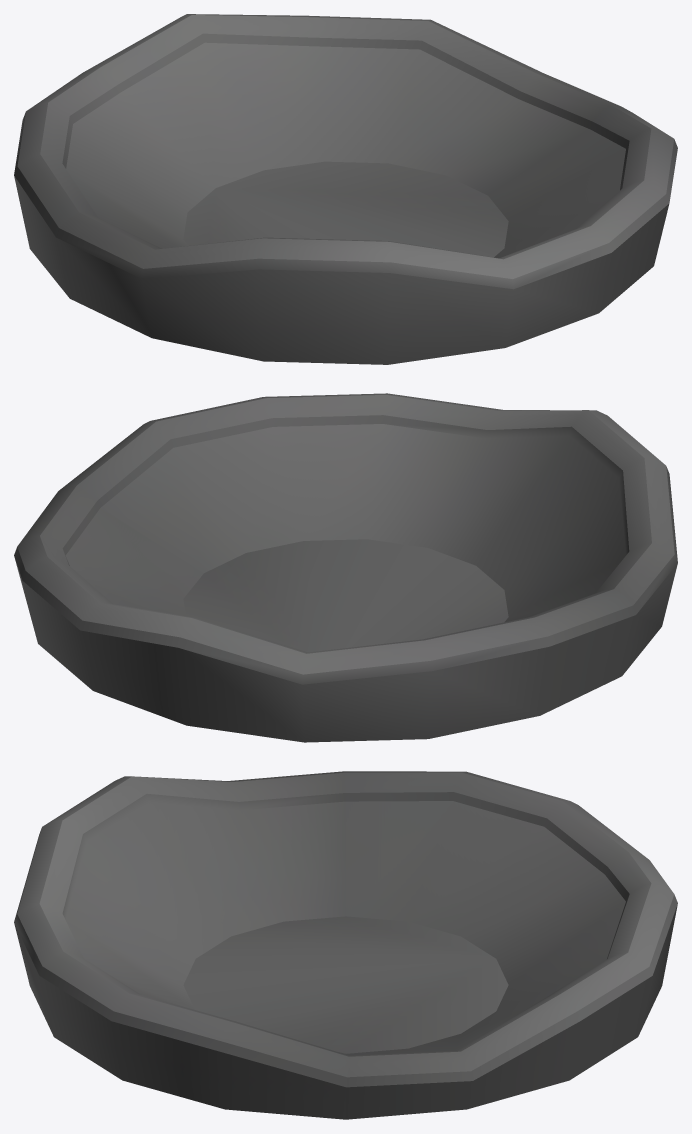
File: Temp_Grenade_Base.fbx
The picture shows the model from 3 angles, top to bottom: view 1: azimuth 30°, elevation 25°; view 2: azimuth 150°, elevation 25°; view 3: azimuth 270°, elevation 25°; orthographic projection.
Visible parts, largest first — view 1: Cylinder.002; view 2: Cylinder.002; view 3: Cylinder.002.
Boxes of the visible parts, box(x1,y1,x2,y2) form: Cylinder.002: box(14, 14, 677, 364); Cylinder.002: box(14, 393, 677, 742); Cylinder.002: box(14, 771, 677, 1119).
Bounding box in the file's own units: 224 × 43.79 × 224.
